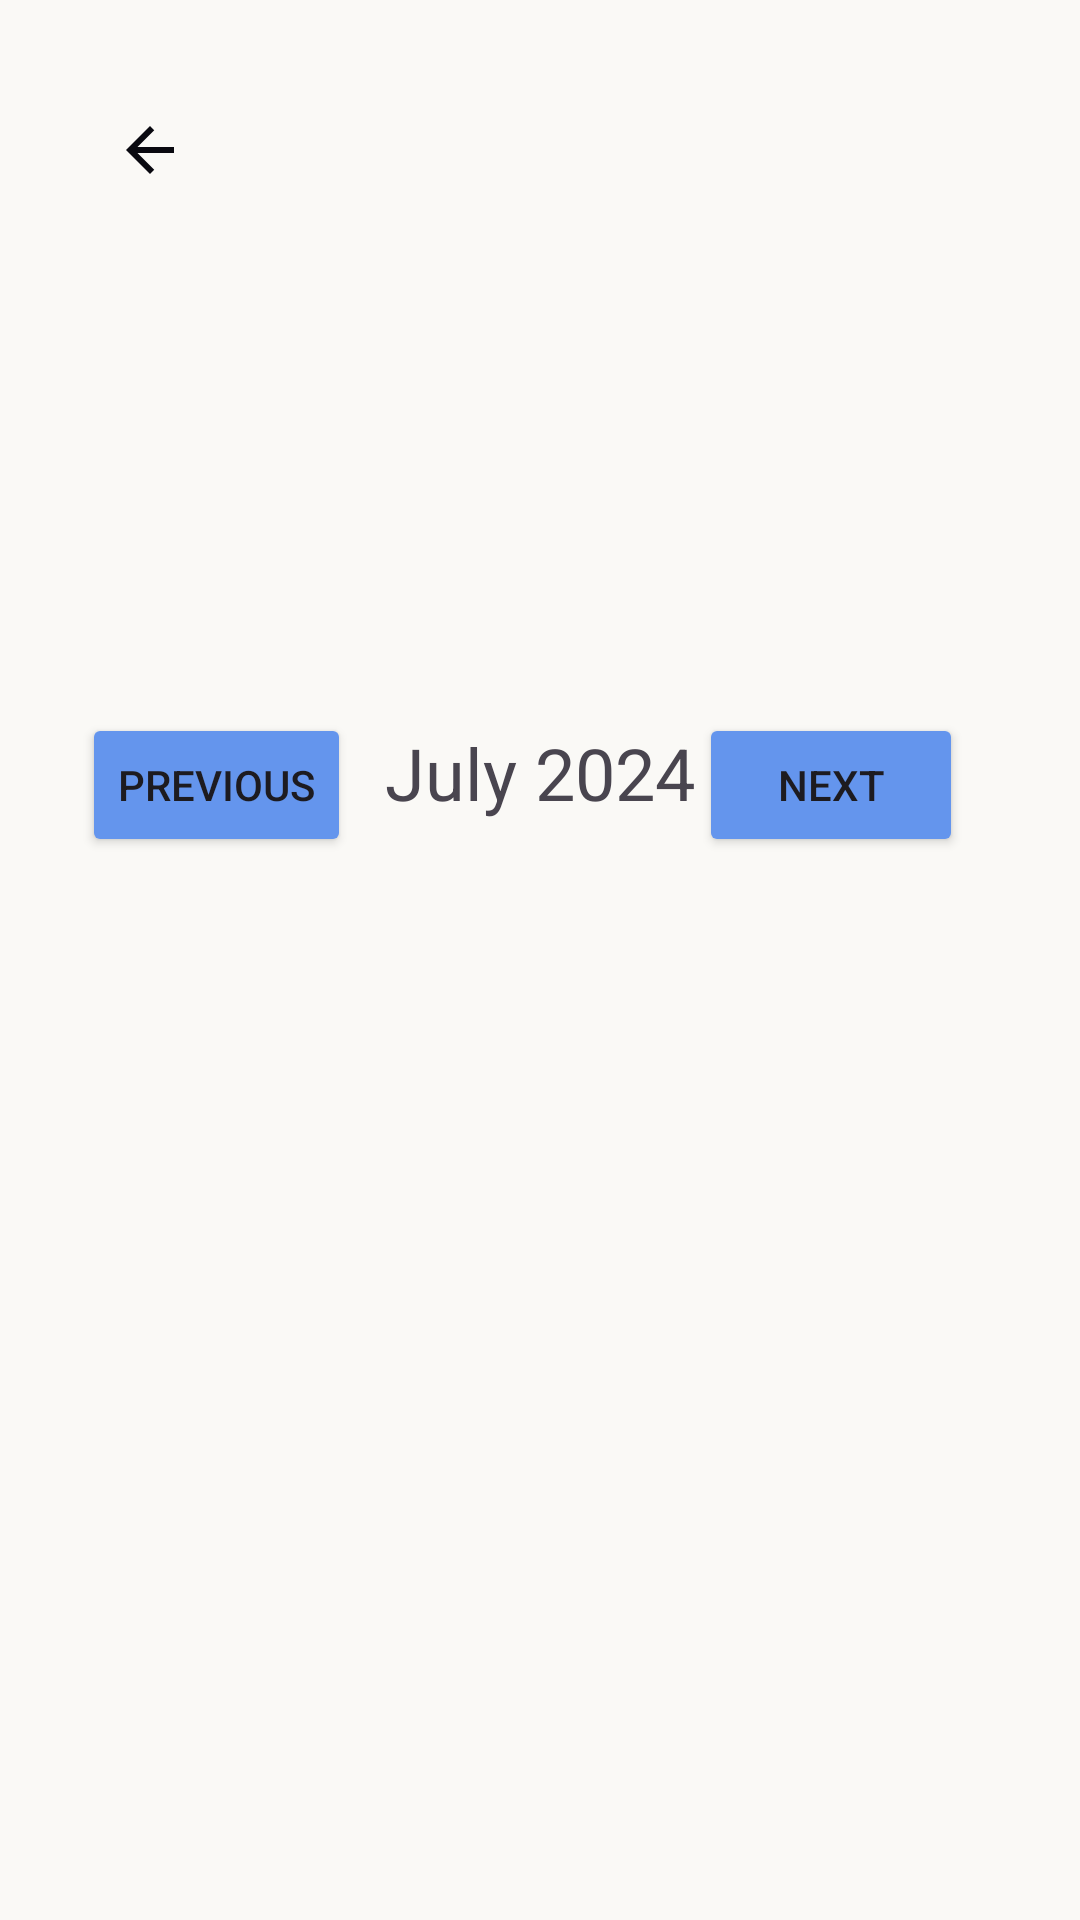

Point at icon controls on the screen. Image size 1080w x 1920h, points as (x,y).
arrow back: (150,150)
